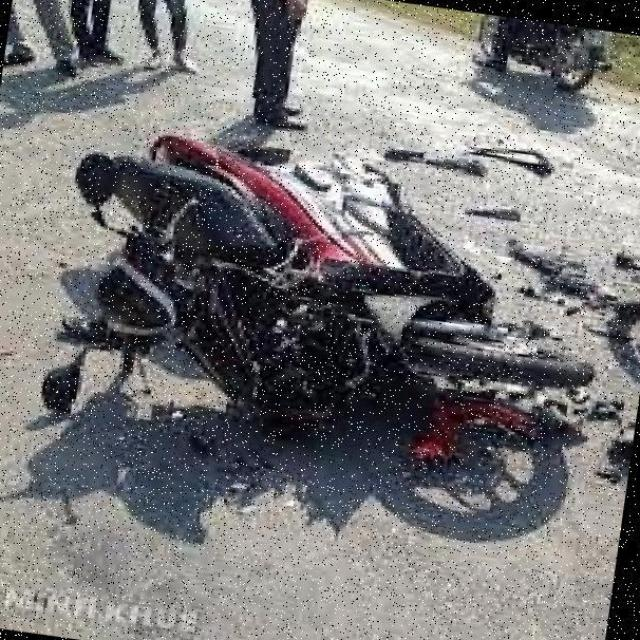accident: (38, 56, 614, 502)
